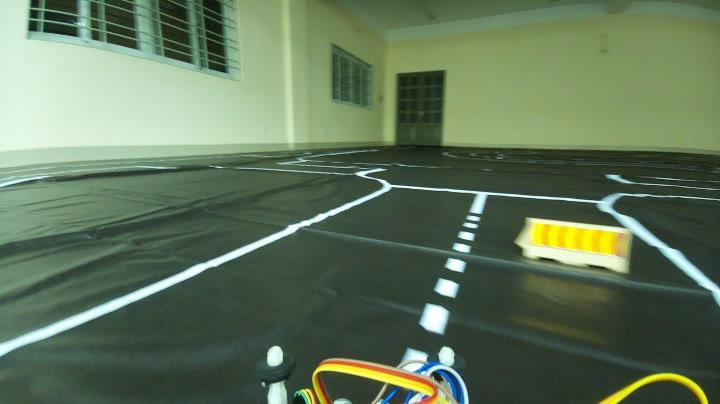roadblock: (510, 208, 648, 282)
